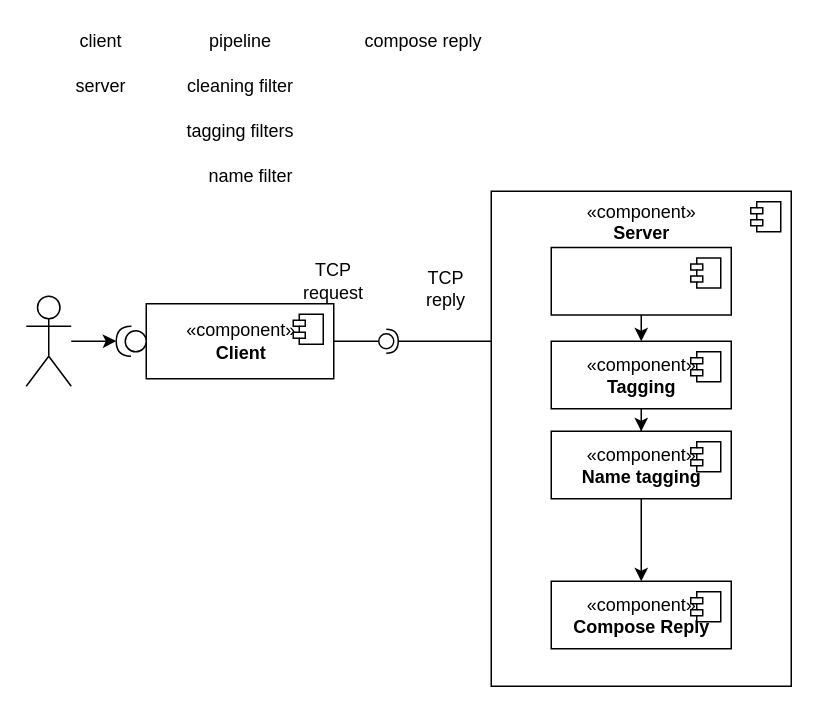
Image size: 818x713. Some labels were removed from this diagram. Here are the shapes that lost their labels. From the top down, the centre of each, then its label:
At pixel 640 280: "«component» Cleaning".
At pixel 48 340: "Actor".
